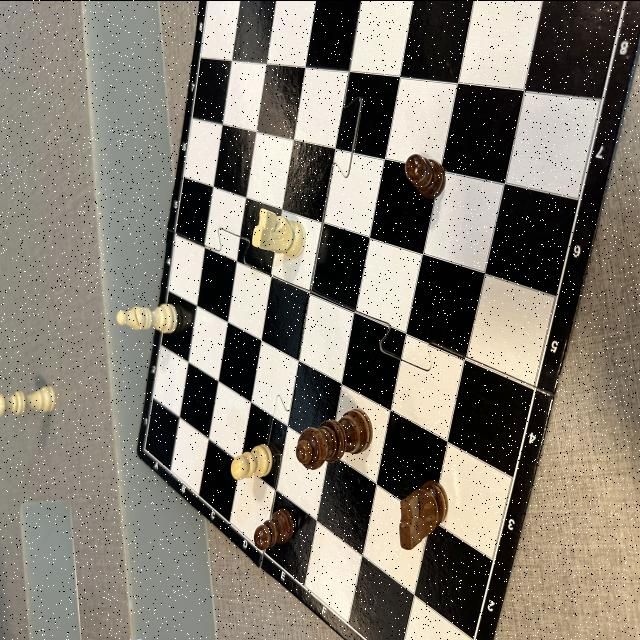Black-Knight: (399, 478, 449, 548)
Black-Pawn: (405, 154, 445, 198), (254, 509, 292, 548)
Black-Queen: (296, 409, 372, 469)
White-Bishop: (118, 306, 178, 332)
White-King: (0, 385, 55, 416)
White-Knight: (252, 208, 306, 258)
White-Pawn: (230, 443, 274, 479)
